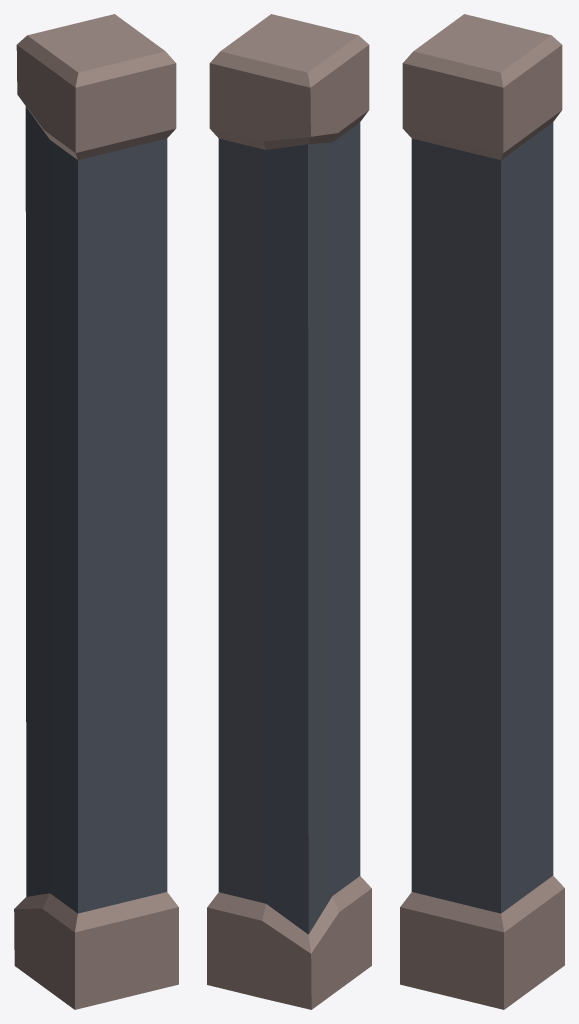
The model's file is g_o_CellWallCorner270.fbx.
3 renders of one model, left to right at view 1: azimuth 30°, elevation 25°; view 2: azimuth 150°, elevation 25°; view 3: azimuth 330°, elevation 25°, orthographic.
Visible parts, largest first — view 1: g_o_CellWallCorner270; view 2: g_o_CellWallCorner270; view 3: g_o_CellWallCorner270.
Part boxes in pixels (left/top/right/bottom): g_o_CellWallCorner270: left=14, top=14, right=178, bottom=1009; g_o_CellWallCorner270: left=207, top=14, right=371, bottom=1009; g_o_CellWallCorner270: left=400, top=14, right=564, bottom=1009.
Bounding box in the file's own units: 0.2198 × 1.88 × 0.2223.
